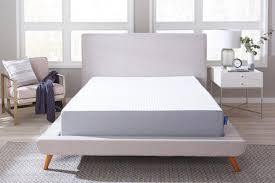bed-matress: (60, 73, 226, 138)
